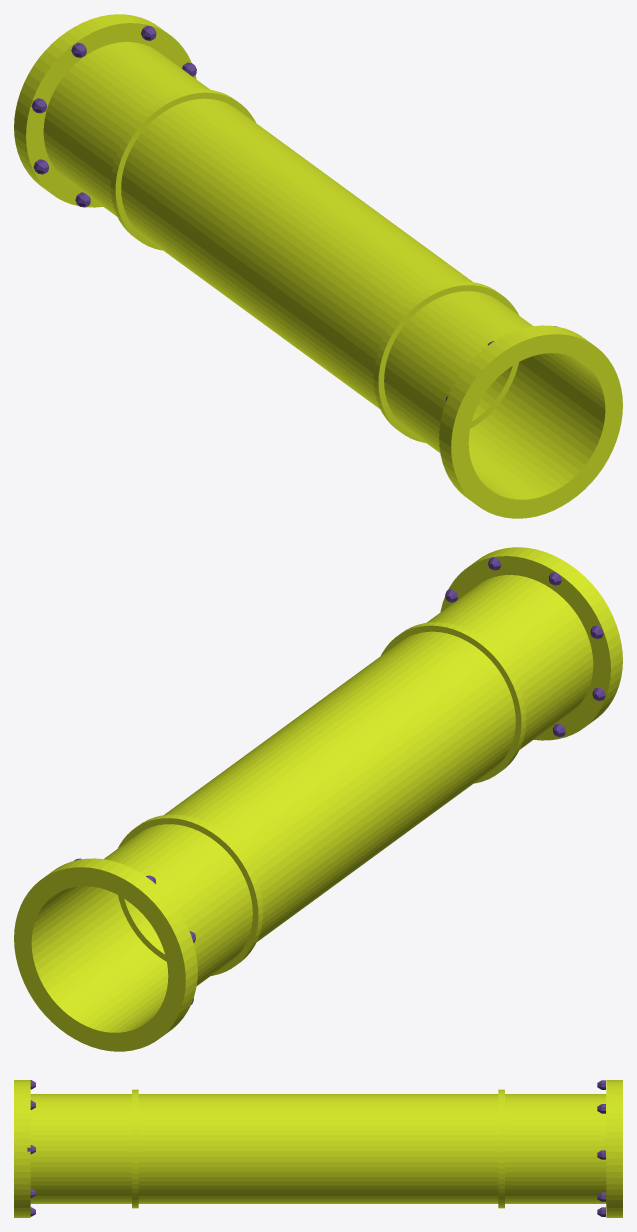
Rendered from Cano10m_Arrumado.fbx.
The picture shows the model from 3 angles, top to bottom: view 1: azimuth 30°, elevation 25°; view 2: azimuth 150°, elevation 25°; view 3: azimuth 270°, elevation 25°; orthographic projection. The views are drawn at different scales.
Parts seen in each view (by area): view 1: Cano; view 2: Cano; view 3: Cano.
Boxes of the visible parts, x1,y1,x2,y2 form: Cano: (14, 14, 622, 518); Cano: (14, 547, 622, 1051); Cano: (14, 1080, 622, 1217).
Bounding box in the file's own units: 227 × 227 × 1000.
